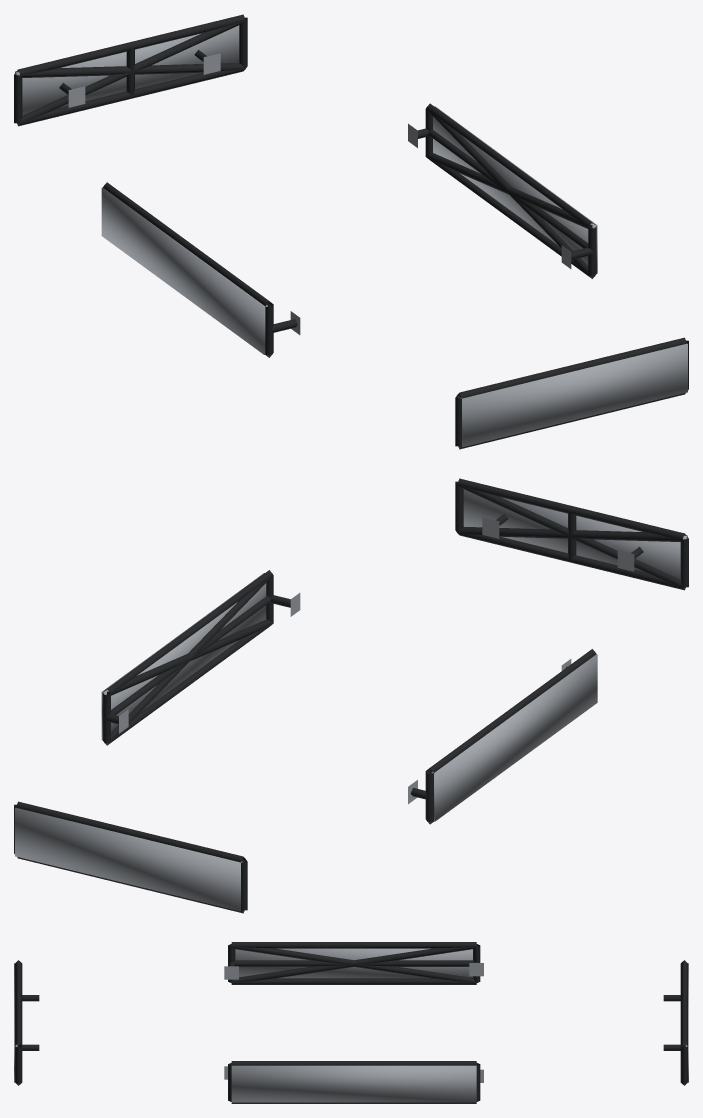
File: hayase_portico_protecao.glb
The picture shows the model from 3 angles, top to bottom: view 1: azimuth 30°, elevation 25°; view 2: azimuth 150°, elevation 25°; view 3: azimuth 270°, elevation 25°; orthographic projection. The views are drawn at different scales.
Visible parts, largest first — view 1: Protection_front_Level3_Details, Protection_left_Level3_Details, Protection_rear_Level1_Details, Protection_rear_Level3_Details, Protection_right_Level1_Details, Protection_right_Level2_Details, Protection_rear_Level2_Details, Protection_right_Level3_Details, Protection_front_Level1_Details, Protection_left_Level1_Details; view 2: Protection_rear_Level3_Details, Protection_left_Level3_Details, Protection_front_Level1_Details, Protection_front_Level3_Details, Protection_right_Level1_Details, Protection_right_Level2_Details, Protection_front_Level2_Details, Protection_right_Level3_Details, Protection_rear_Level1_Details, Protection_left_Level1_Details; view 3: Protection_right_Level3_Details, Protection_left_Level2_Details, Protection_left_Level1_Details, Protection_left_Level3_Details, Protection_right_Level1_Details, Protection_rear_Level1_Details, Protection_front_Level1_Details.
Boxes of the visible parts, <box> form: Protection_front_Level3_Details: <box>460,343,687,447</box>; Protection_left_Level3_Details: <box>101,187,267,354</box>; Protection_rear_Level1_Details: <box>14,14,247,126</box>; Protection_rear_Level3_Details: <box>15,25,239,115</box>; Protection_right_Level1_Details: <box>408,103,596,278</box>; Protection_right_Level2_Details: <box>426,110,595,278</box>; Protection_rear_Level2_Details: <box>16,20,245,125</box>; Protection_right_Level3_Details: <box>433,106,597,273</box>; Protection_front_Level1_Details: <box>455,337,688,449</box>; Protection_left_Level1_Details: <box>103,182,300,357</box>; Protection_rear_Level3_Details: <box>15,807,242,911</box>; Protection_left_Level3_Details: <box>431,654,597,821</box>; Protection_front_Level1_Details: <box>455,478,688,590</box>; Protection_front_Level3_Details: <box>463,489,687,579</box>; Protection_right_Level1_Details: <box>102,570,300,745</box>; Protection_right_Level2_Details: <box>103,576,273,745</box>; Protection_front_Level2_Details: <box>457,484,686,589</box>; Protection_right_Level3_Details: <box>101,573,266,740</box>; Protection_rear_Level1_Details: <box>14,801,247,913</box>; Protection_left_Level1_Details: <box>408,649,596,824</box>; Protection_right_Level3_Details: <box>231,1065,476,1102</box>; Protection_left_Level2_Details: <box>231,945,476,983</box>; Protection_left_Level1_Details: <box>224,942,483,984</box>; Protection_left_Level3_Details: <box>235,948,472,978</box>; Protection_right_Level1_Details: <box>224,1061,483,1103</box>; Protection_rear_Level1_Details: <box>663,960,687,1085</box>; Protection_front_Level1_Details: <box>15,960,39,1085</box>.
Bounding box in the file's own units: 2.17 × 0.354 × 5.04.
1 material, 1 textured.
